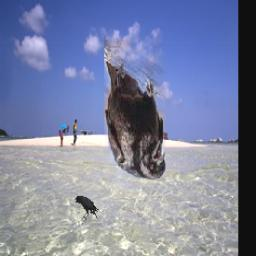Crow: (104, 37, 166, 181), (74, 196, 100, 221)
